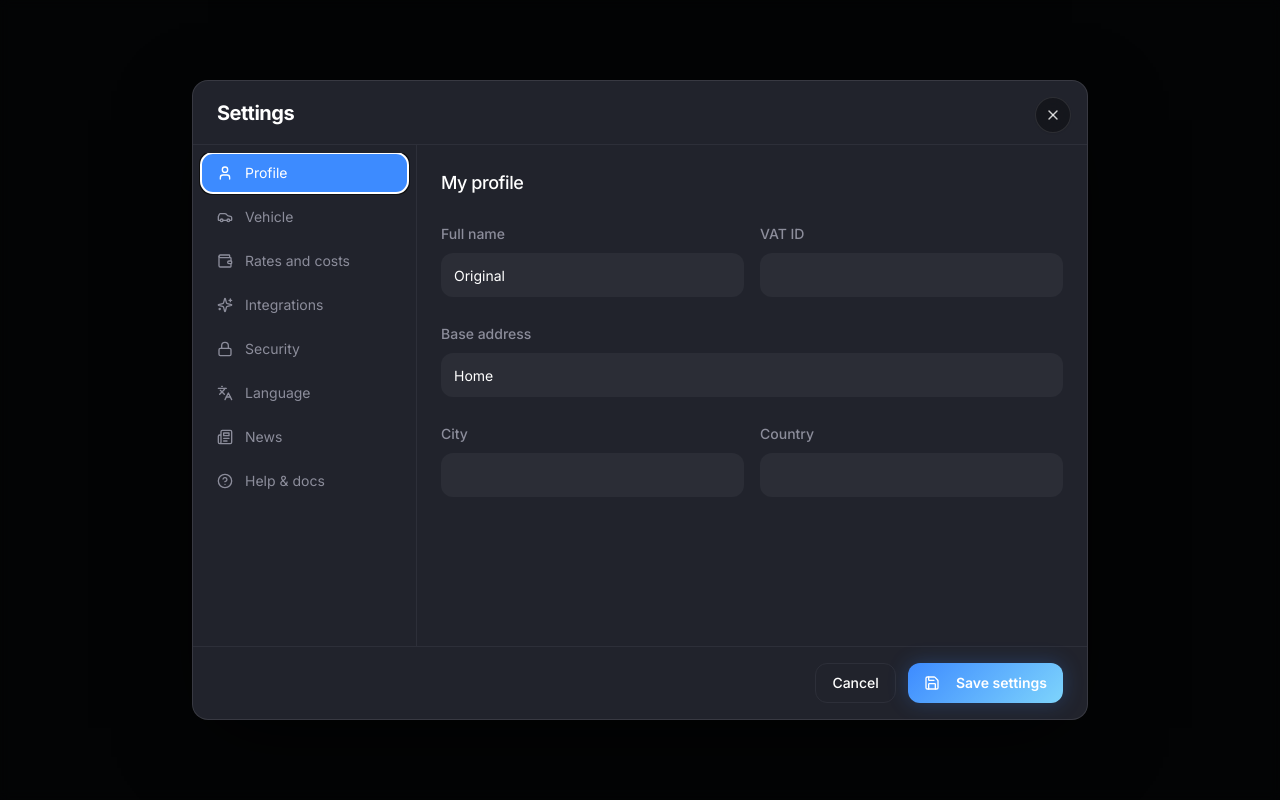
Test: keeps settings sections and dialog controls in en
This screenshot has width=1280, height=800.
Expected: the button named "Close" is shown, [1035,97,1071,133]
Click the button "Security": [304, 349] box [201,329,408,369]
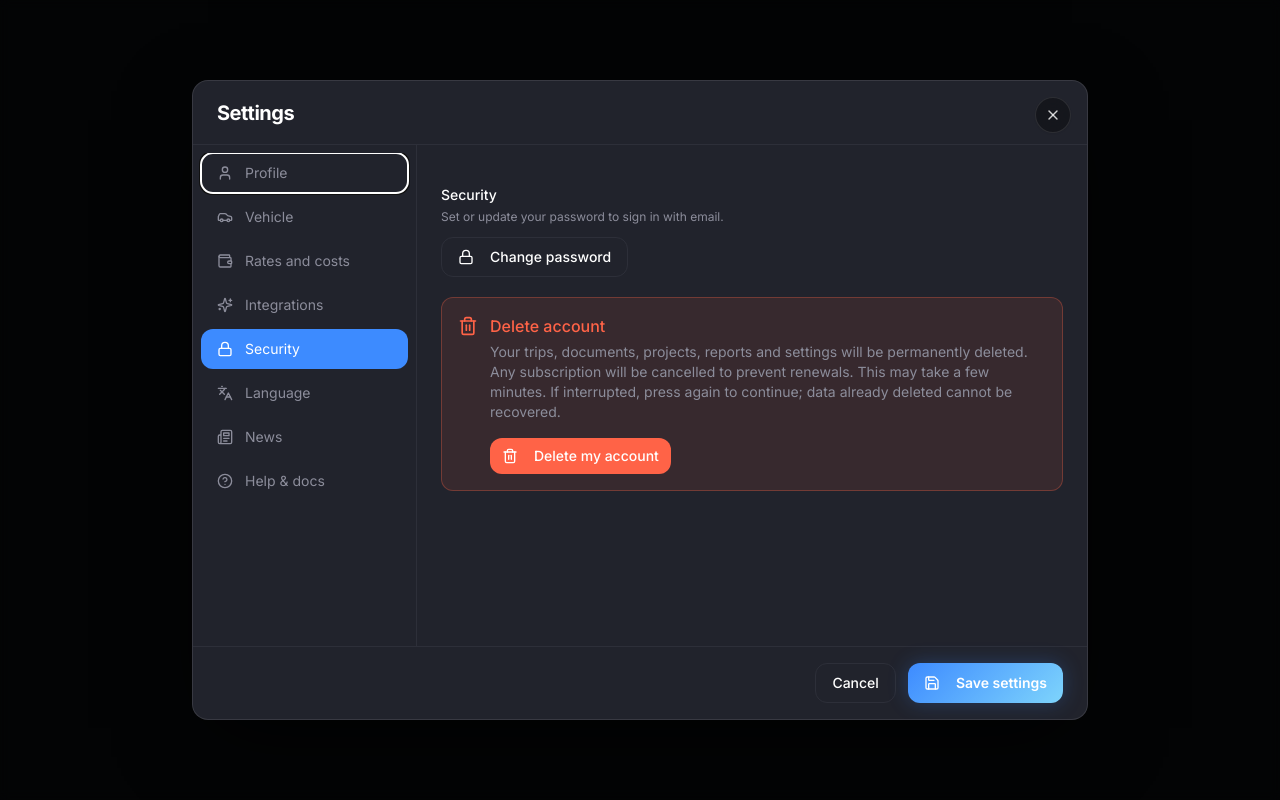
Result: the button "Change password" is shown at [441,237,628,277]
Click the button "Integrations": [304, 305] box [201,285,408,325]
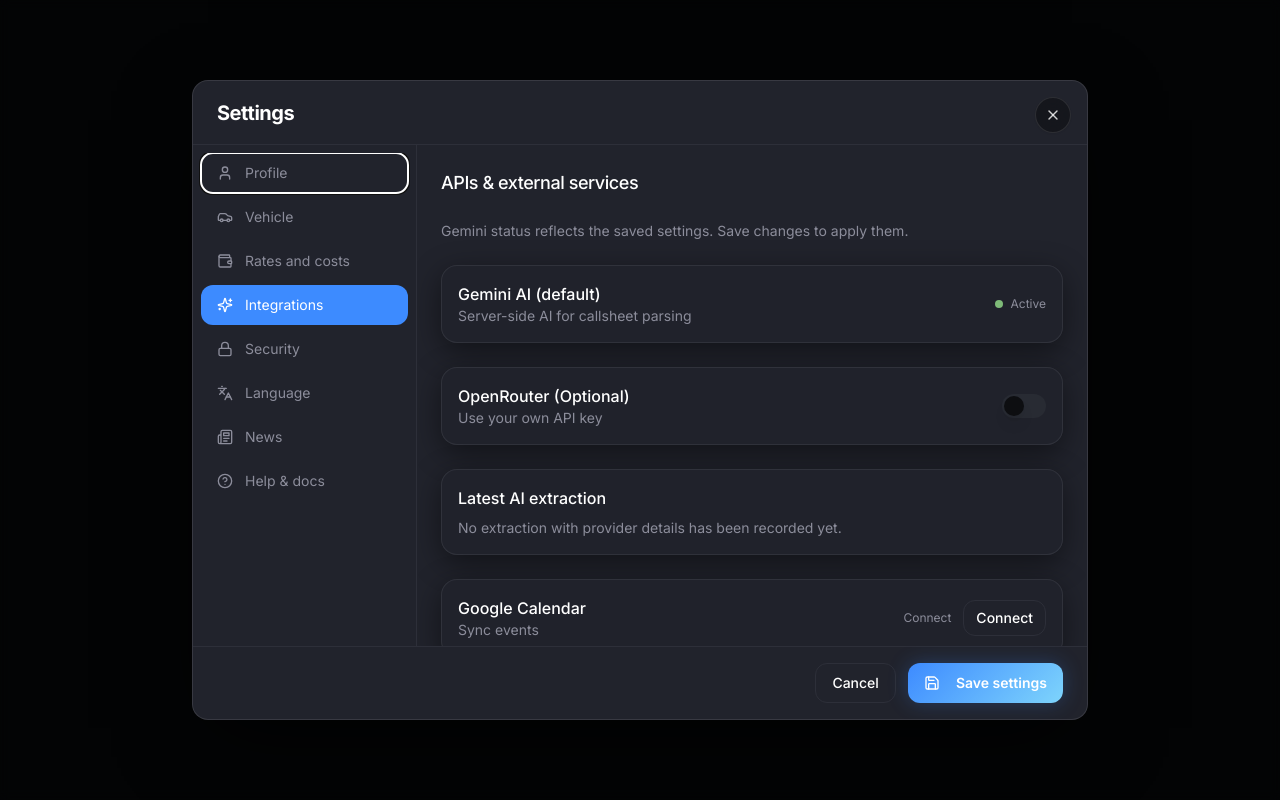
Result: the heading "Gemini AI (default)" is shown at [458,284,601,304]
